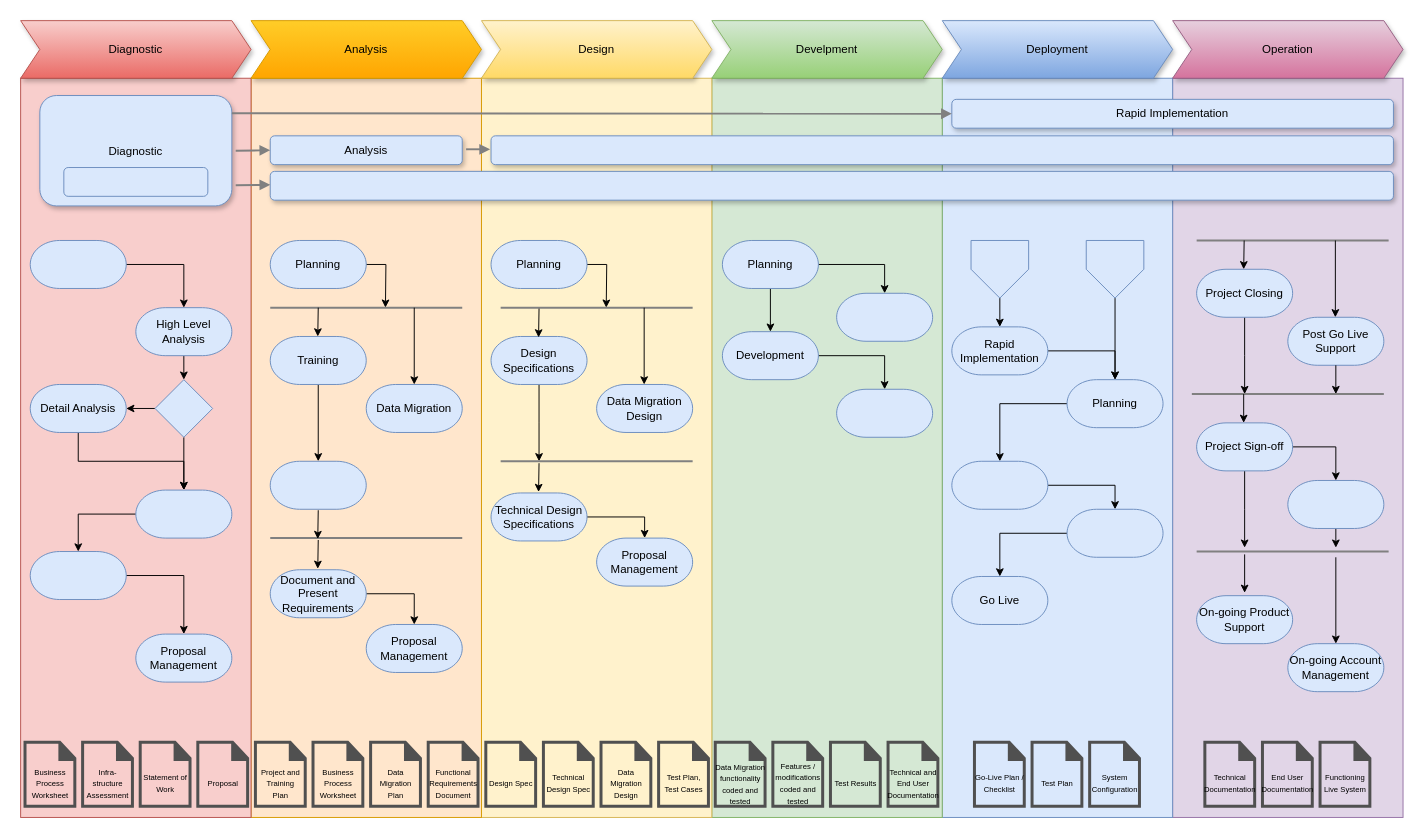
This 1426x834 diagram has some shape labels left out. Each missing label, with the centre of its shape:
Configure Environment: (x=999, y=484)
Customer Testing and Acceptance: (x=884, y=412)
Detail Analysis?: (x=183, y=408)
Detail Business Process Analysis: (x=317, y=484)
Detailed Analysis: (x=135, y=181)
Diagnostic Preparation: (x=77, y=264)
Environment Setup: (x=884, y=316)
From Development Phase: (x=1114, y=269)
From Diagnostic Phase: (x=999, y=269)
Full Implementation: (x=832, y=187)
Implementation: (x=942, y=151)
Infrastructure Analysis: (x=77, y=575)
Project review: (x=1335, y=504)
Scoping: (x=183, y=513)
Testing: (x=1114, y=532)
